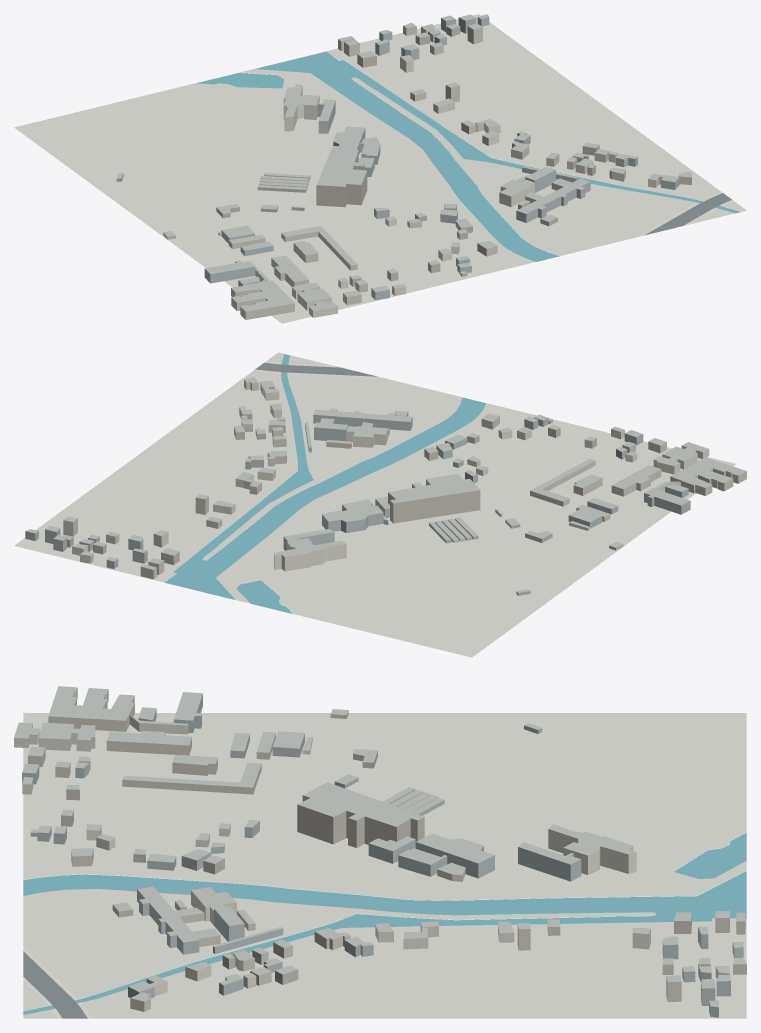
3 renders of one model, top to bottom at view 1: azimuth 30°, elevation 25°; view 2: azimuth 150°, elevation 25°; view 3: azimuth 270°, elevation 25°, orthographic. The views are drawn at different scales.
Visible parts, largest first — view 1: city; view 2: city; view 3: city.
Part boxes in pixels (x1,y1,x2,y2): city: (14,14,746,323); city: (14,352,746,657); city: (14,686,746,1018).
Size of the model in its own units: 525 by 21.08 by 507.
